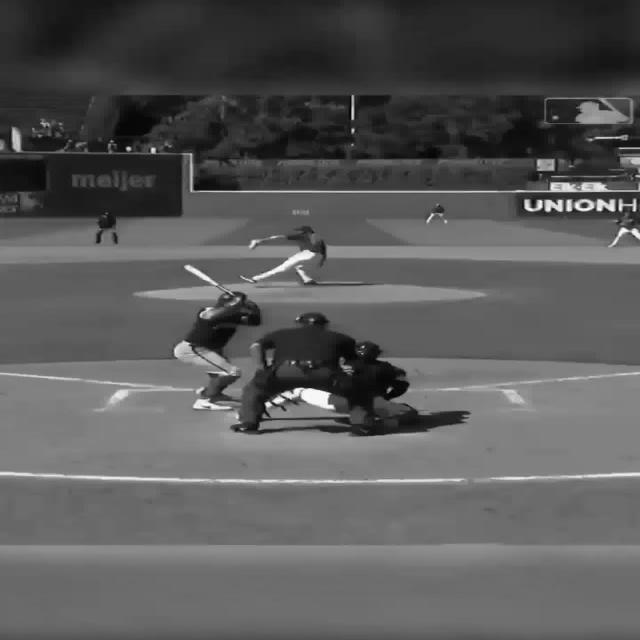baseball_glove: (247, 239, 264, 250)
bat: (184, 265, 233, 296)
shoe: (193, 399, 233, 411), (240, 275, 258, 284)
